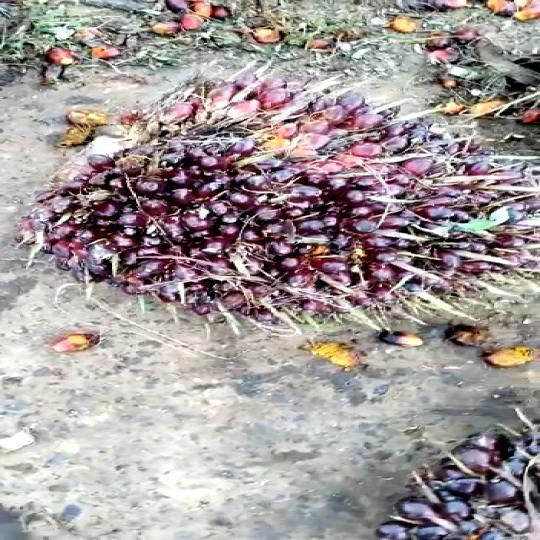kurang masak: (38, 67, 540, 335)
